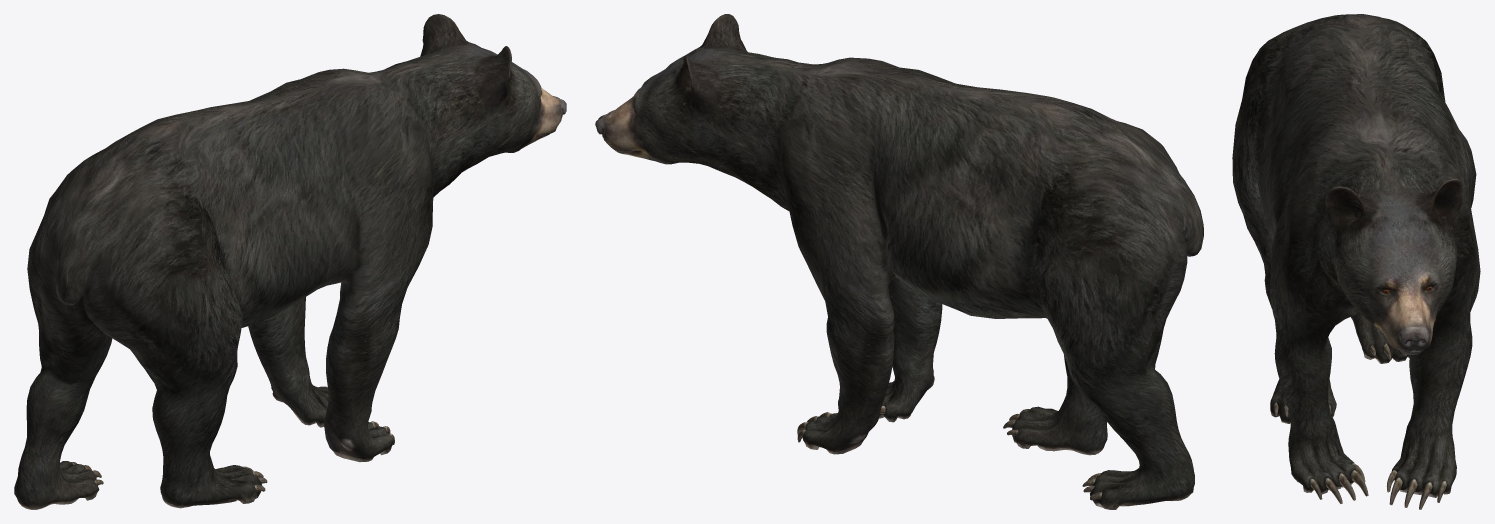
File: urso.glb
3 views of the same model, side by side, from view 1: azimuth 30°, elevation 25°; view 2: azimuth 150°, elevation 25°; view 3: azimuth 270°, elevation 25° (orthographic). The views are drawn at different scales.
Parts seen in each view (by area): view 1: Bear.001_applied_clean_M_Bear_0; view 2: Bear.001_applied_clean_M_Bear_0; view 3: Bear.001_applied_clean_M_Bear_0.
Boxes of the visible parts, x1,y1,x2,y2 form: Bear.001_applied_clean_M_Bear_0: (14,14,566,509); Bear.001_applied_clean_M_Bear_0: (595,14,1203,509); Bear.001_applied_clean_M_Bear_0: (1232,14,1480,509).
Size of the model in its own units: 2.91 by 1.78 by 1.05.
Materials: 1 (1 with a texture image).
